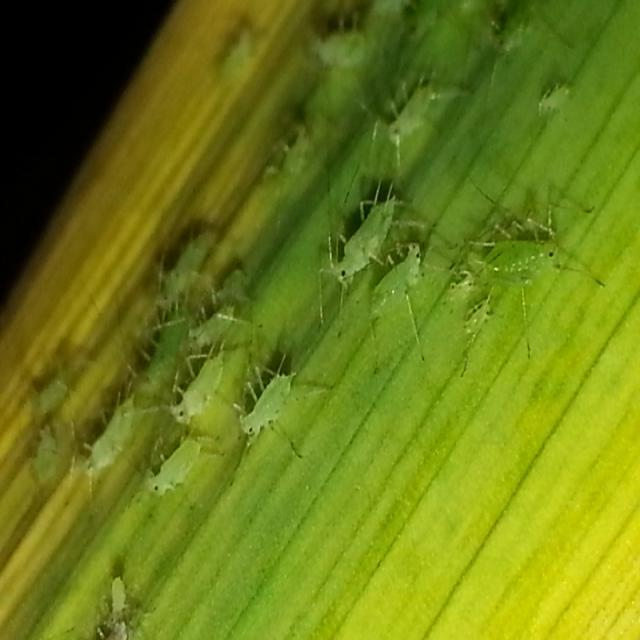aphid: (308, 167, 414, 305), (481, 186, 602, 290), (371, 41, 457, 170), (225, 352, 315, 464), (365, 223, 433, 361), (73, 364, 147, 468), (140, 419, 214, 518), (176, 274, 262, 359), (162, 344, 232, 434), (146, 217, 220, 297), (518, 70, 600, 132), (459, 303, 502, 383), (446, 252, 482, 304)
